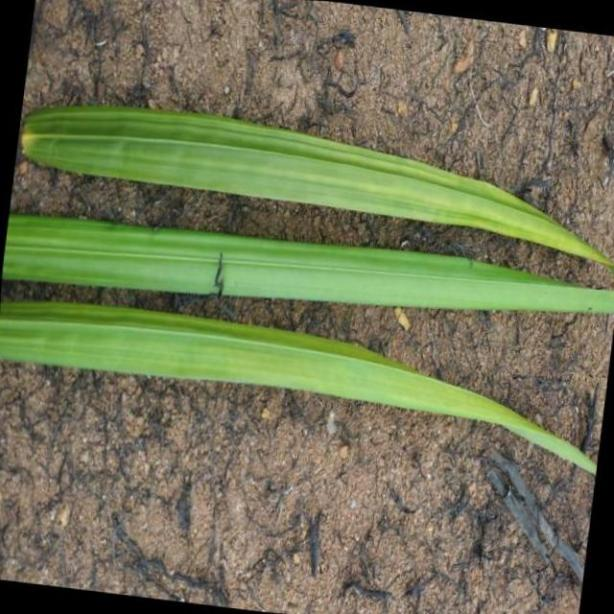nitrogen: (0, 302, 614, 475), (14, 102, 614, 264), (5, 214, 614, 302)
